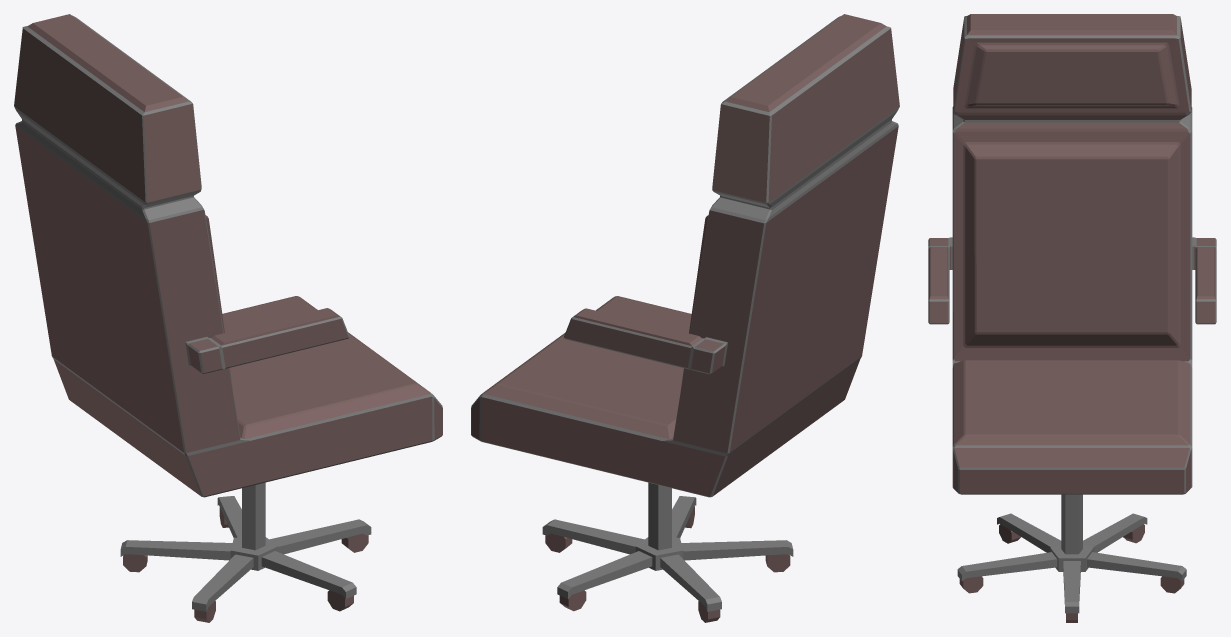
File: Fauteuil.fbx
The picture shows the model from 3 angles, left to right: view 1: azimuth 30°, elevation 25°; view 2: azimuth 150°, elevation 25°; view 3: azimuth 270°, elevation 25°; orthographic projection. The views are drawn at different scales.
Visible parts, largest first — view 1: FauteuilBevelAcoudoire; view 2: FauteuilBevelAcoudoire; view 3: FauteuilBevelAcoudoire.
Part boxes in pixels (x1,y1,x2,y2): FauteuilBevelAcoudoire: (14, 14, 442, 622); FauteuilBevelAcoudoire: (471, 14, 899, 622); FauteuilBevelAcoudoire: (928, 14, 1216, 622).
Bounding box in the file's own units: 103 × 180 × 95.44.
